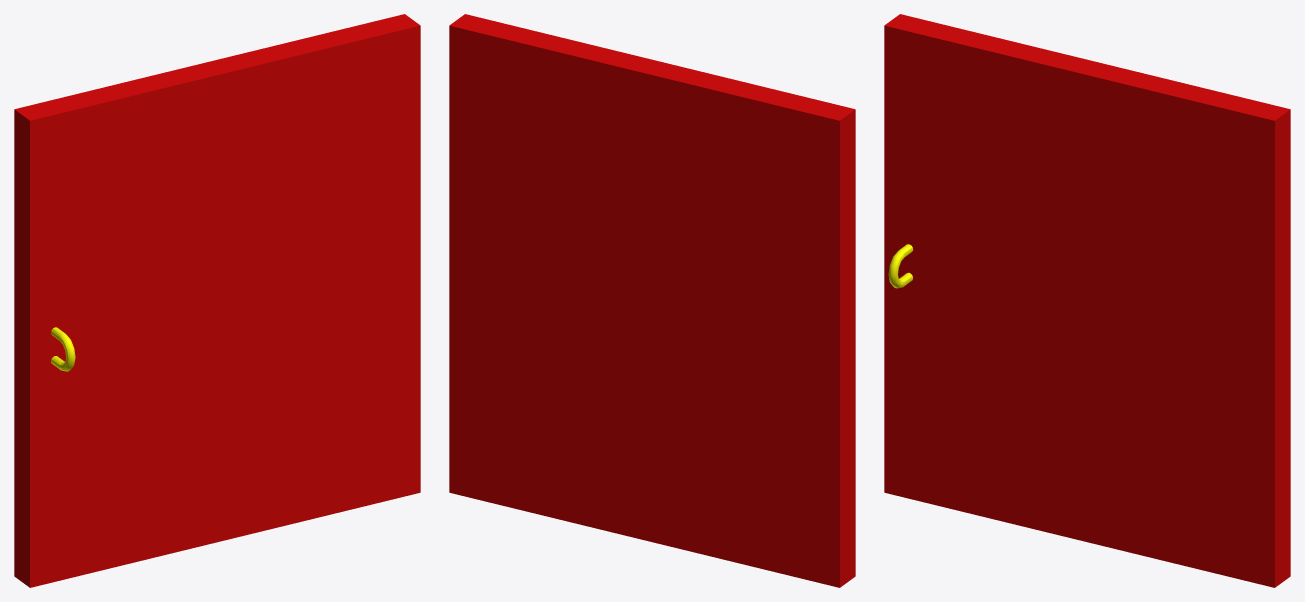
Rendered from Abbie - SafeDoor.fbx.
3 views of the same model, side by side, from view 1: azimuth 30°, elevation 25°; view 2: azimuth 150°, elevation 25°; view 3: azimuth 330°, elevation 25° (orthographic).
Visible parts, largest first — view 1: safeDoor; view 2: safeDoor; view 3: safeDoor.
Part boxes in pixels (<box>): safeDoor: <box>14,14,420,587</box>; safeDoor: <box>449,14,855,587</box>; safeDoor: <box>884,14,1290,587</box>.
Bounding box in the file's own units: 0.5366 × 0.6133 × 0.0811.
